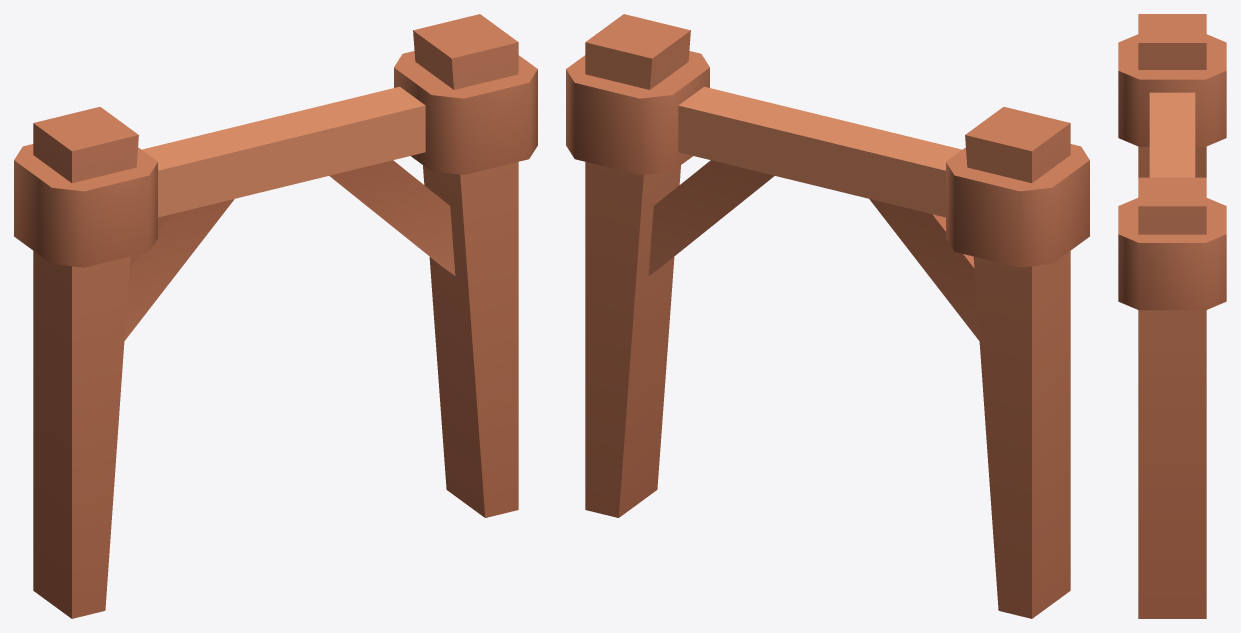
The model's file is wood-support.obj.
3 renders of one model, left to right at view 1: azimuth 30°, elevation 25°; view 2: azimuth 150°, elevation 25°; view 3: azimuth 270°, elevation 25°, orthographic. The views are drawn at different scales.
Visible parts, largest first — view 1: wood-support; view 2: wood-support; view 3: wood-support.
Part boxes in pixels (x1,y1,x2,y2): wood-support: [14, 14, 537, 618]; wood-support: [566, 14, 1089, 618]; wood-support: [1118, 14, 1226, 618].
Size of the model in its own units: 1.09 by 1 by 0.238.
1 material, 1 textured.
